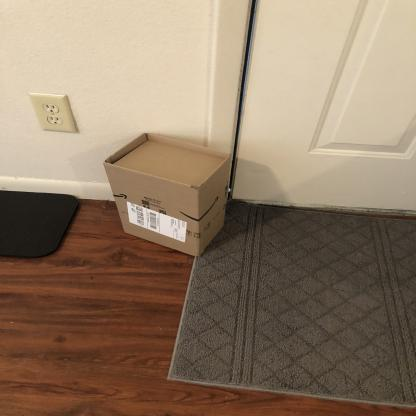package: (102, 131, 235, 260)
